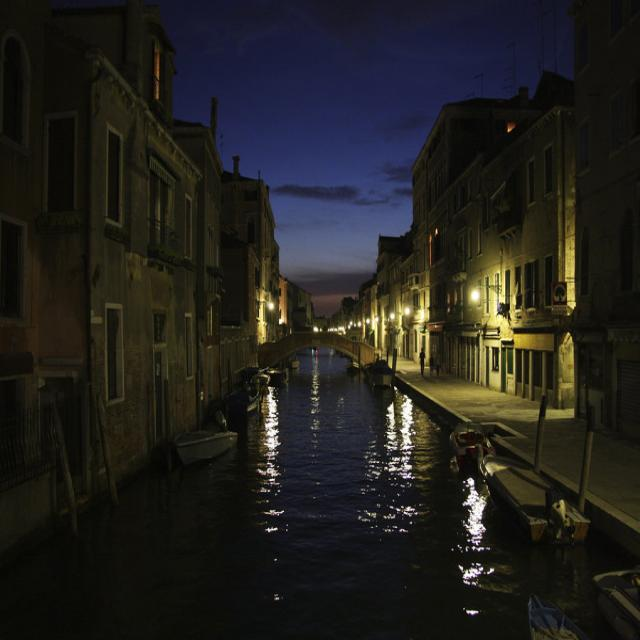Boat: (439, 404, 597, 560), (139, 390, 251, 495), (360, 330, 417, 425), (595, 533, 639, 640), (240, 346, 303, 412)
